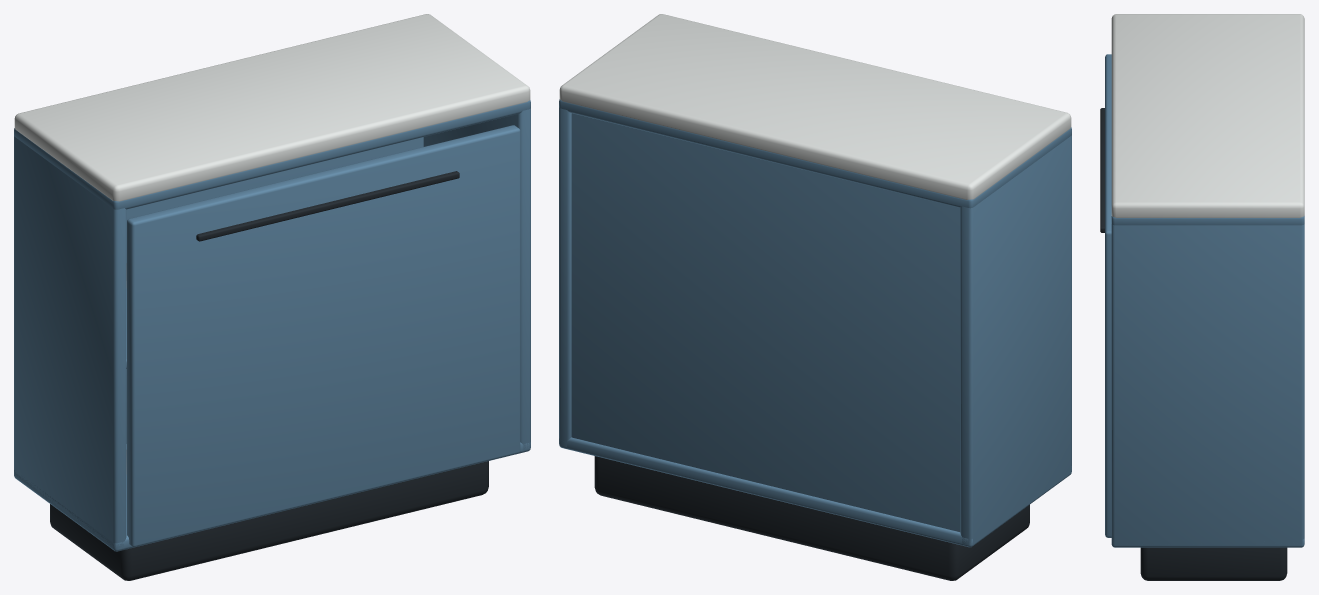
The model's file is wall-cabinet.glb.
The picture shows the model from 3 angles, left to right: view 1: azimuth 30°, elevation 25°; view 2: azimuth 150°, elevation 25°; view 3: azimuth 270°, elevation 25°; orthographic projection. The views are drawn at different scales.
Parts seen in each view (by area): view 1: wall-cabinet; view 2: wall-cabinet; view 3: wall-cabinet.
Boxes of the visible parts, bbox=[...] form: wall-cabinet: bbox=[14, 14, 530, 580]; wall-cabinet: bbox=[559, 14, 1071, 580]; wall-cabinet: bbox=[1100, 14, 1304, 580].
Size of the model in its own units: 0.8 by 0.76 by 0.36.
